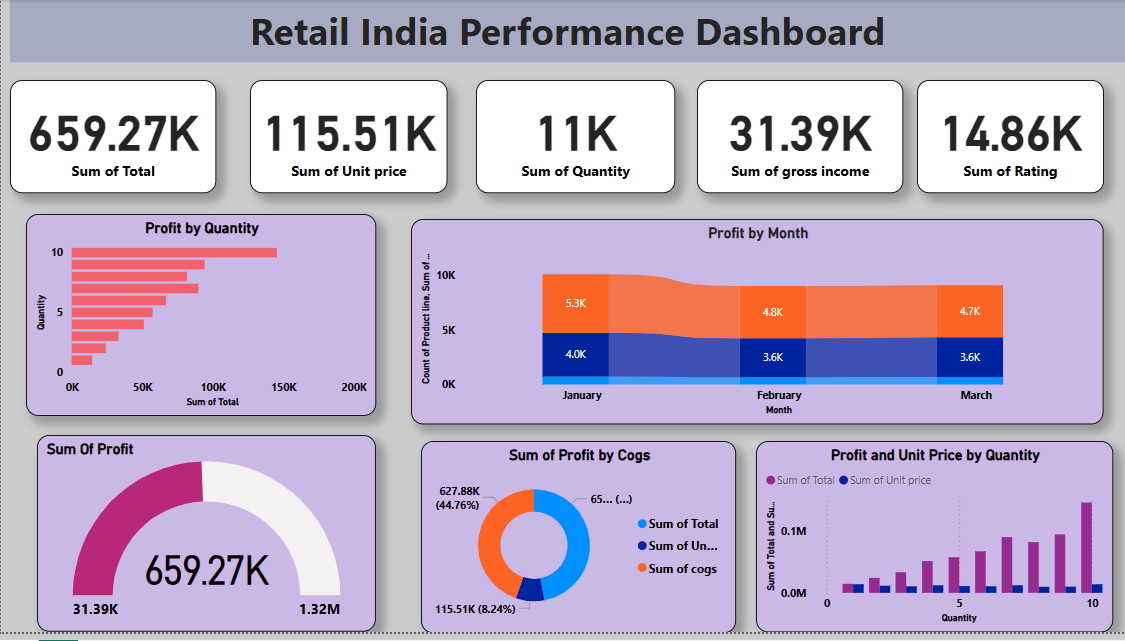

Layout of this report page (visuals, bound fields, positions):
{"tool":"powerbi","page":{"name":"Page 1","canvas":[1280,720],"ordinal":0},"visuals":[{"type":"textbox","box":[9.9,0,1270.5,71.2],"z":0},{"type":"card","fields":{"Values":["Sum(Retail_india.Total)"]},"box":[9.9,91.1,235.2,129.2],"z":1000},{"type":"card","fields":{"Values":["Sum(Retail_india.Quantity)"]},"box":[541.7,91.1,226.9,129.2],"z":2000},{"type":"card","fields":{"Values":["Sum(Retail_india.Unit price)"]},"box":[283.3,91.1,225.3,129.2],"z":3000},{"type":"card","fields":{"Values":["Sum(Retail_india.gross income)"]},"box":[793.5,91.1,235.2,129.2],"z":4000},{"type":"card","fields":{"Values":["Sum(Retail_india.Rating)"]},"box":[1043.5,91.1,213,128.7],"z":5000},{"type":"ribbonChart","title":"Profit by Month","fields":{"Category":["Retail_india.Date.Variation.Date Hierarchy.Month"],"Y":["CountNonNull(Retail_india.Product line)","Sum(Retail_india.Quantity)","Sum(Retail_india.Rating)"]},"box":[467.1,249.5,789.5,233.5],"z":6000},{"type":"gauge","title":"Sum Of Profit","fields":{"Y":["Sum(Retail_india.Total)"],"MinValue":["Sum(Retail_india.gross income)"]},"box":[41,495.6,386.2,224.4],"z":7000},{"type":"clusteredBarChart","title":"Profit by Quantity","fields":{"Y":["Sum(Retail_india.Total)"],"Category":["Retail_india.Quantity"]},"box":[28.2,243.5,399.2,230.3],"z":8000},{"type":"donutChart","title":"Sum of Profit by Cogs ","fields":{"Y":["Sum(Retail_india.Total)","Sum(Retail_india.Unit price)","Sum(Retail_india.cogs)"]},"box":[478.7,501.9,359.5,218.7],"z":10000},{"type":"clusteredColumnChart","title":"Profit and Unit Price by Quantity","fields":{"Y":["Sum(Retail_india.Total)","Sum(Retail_india.Unit price)"],"Category":["Retail_india.Quantity"]},"box":[860,502,407,218],"z":11000}]}

Visuals, with their boxes in screenshot pixels (x1, y1, x2, y2), scaled from the page's 1280x720 canvas onto the 1125x641 screenshot:
textbox: {"left": 9, "top": 0, "right": 1124, "bottom": 63}
card - Sum(Retail_india.Total): {"left": 9, "top": 81, "right": 215, "bottom": 196}
card - Sum(Retail_india.Quantity): {"left": 476, "top": 81, "right": 676, "bottom": 196}
card - Sum(Retail_india.Unit price): {"left": 249, "top": 81, "right": 447, "bottom": 196}
card - Sum(Retail_india.gross income): {"left": 697, "top": 81, "right": 904, "bottom": 196}
card - Sum(Retail_india.Rating): {"left": 917, "top": 81, "right": 1104, "bottom": 196}
"Profit by Month" ribbonChart: {"left": 411, "top": 222, "right": 1104, "bottom": 430}
"Sum Of Profit" gauge: {"left": 36, "top": 441, "right": 375, "bottom": 640}
"Profit by Quantity" clusteredBarChart: {"left": 25, "top": 217, "right": 376, "bottom": 422}
"Sum of Profit by Cogs " donutChart: {"left": 421, "top": 447, "right": 737, "bottom": 640}
"Profit and Unit Price by Quantity" clusteredColumnChart: {"left": 756, "top": 447, "right": 1114, "bottom": 640}
